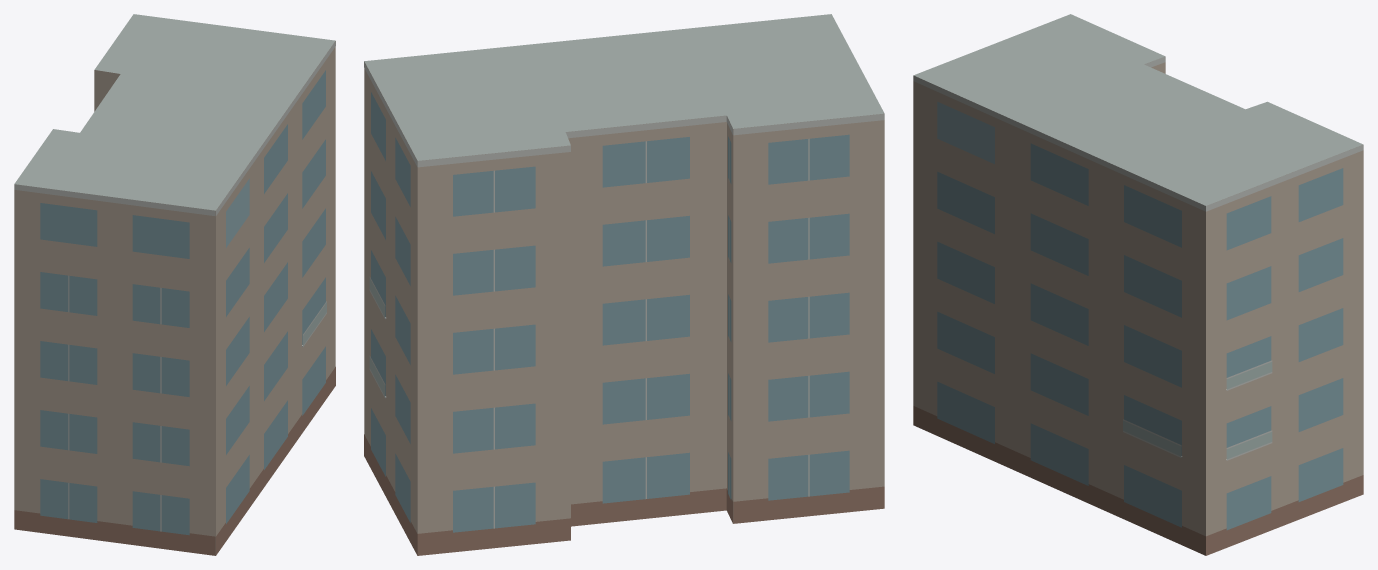
File: survey-upis-32534656.glb
3 renders of one model, left to right at view 1: azimuth 30°, elevation 25°; view 2: azimuth 150°, elevation 25°; view 3: azimuth 270°, elevation 25°, orthographic. The views are drawn at different scales.
Parts seen in each view (by area): view 1: survey-upis-32534656.tmp; view 2: survey-upis-32534656.tmp; view 3: survey-upis-32534656.tmp.
Part boxes in pixels (x1=…): survey-upis-32534656.tmp: x1=14, y1=14, x2=335, y2=555; survey-upis-32534656.tmp: x1=364, y1=14, x2=884, y2=555; survey-upis-32534656.tmp: x1=913, y1=14, x2=1363, y2=555.
Size of the model in its own units: 17.54 by 14.9 by 17.38.
